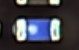COMP: (9, 14, 65, 45)
GAP: (16, 1, 61, 27)
